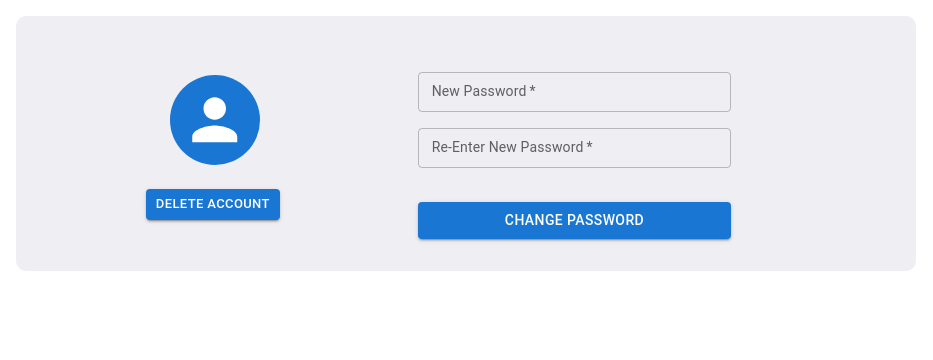
Profile Page: Password Card tests › should show errors when typing false new password
Type "1" into the password field with test id "new-password-field".
click(575, 92); type("1")  # box [418,72,731,112]
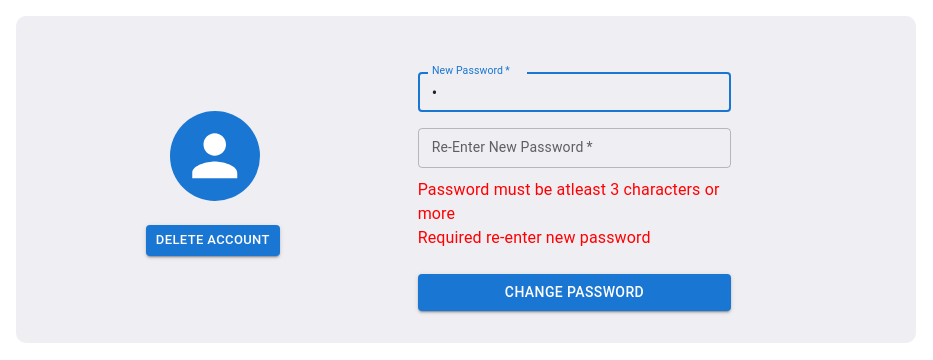
Expected: the text "Password must be atleast 3 characters or more" is shown, [418,178,731,226]
Expected: the text "Required re-enter new password" is shown, [418,228,651,247]
